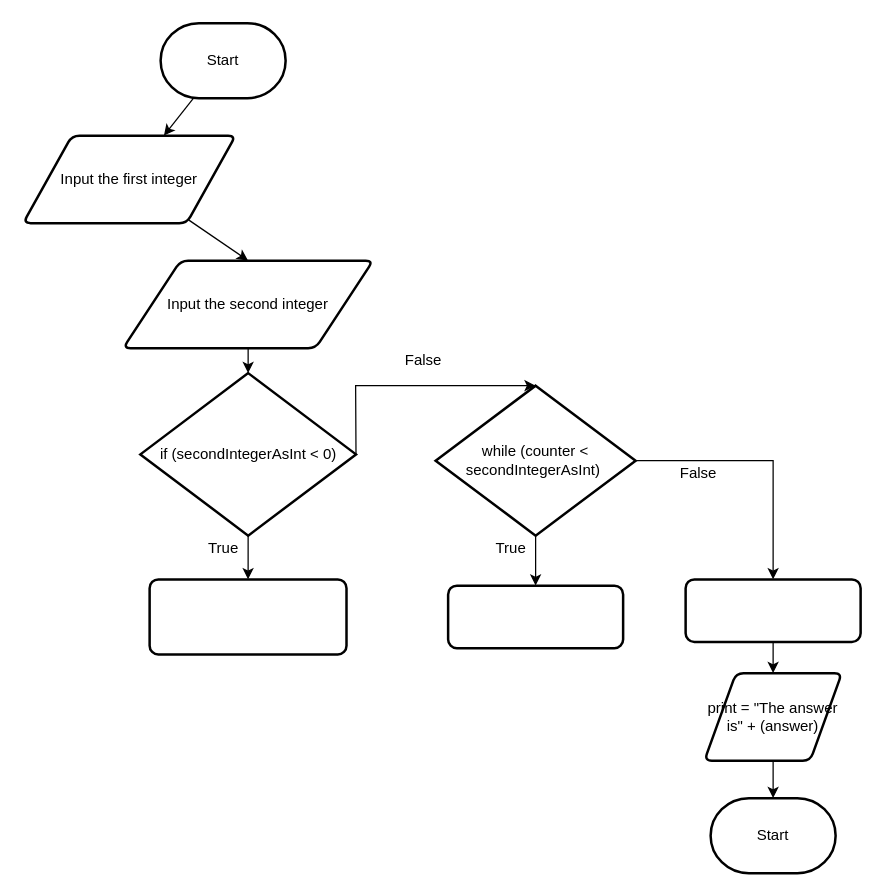
Image size: 883x895. Some labels were removed from this diagram. The centre of each missing label's shape, as x and y in pixels:
"answer += firstIntegerAsInt" belongs at point 772,610.
"counter++" belongs at point 535,616.
"firstIntegerAsInt = secondIntegerAsInt" belongs at point 247,616.
